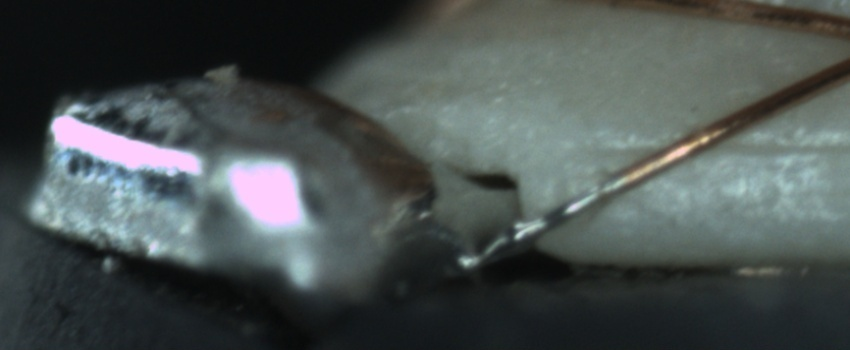DL: (609, 114, 844, 181)
TB: (496, 213, 536, 252)
TS: (465, 171, 621, 272)
TTCW: (462, 143, 665, 273)
